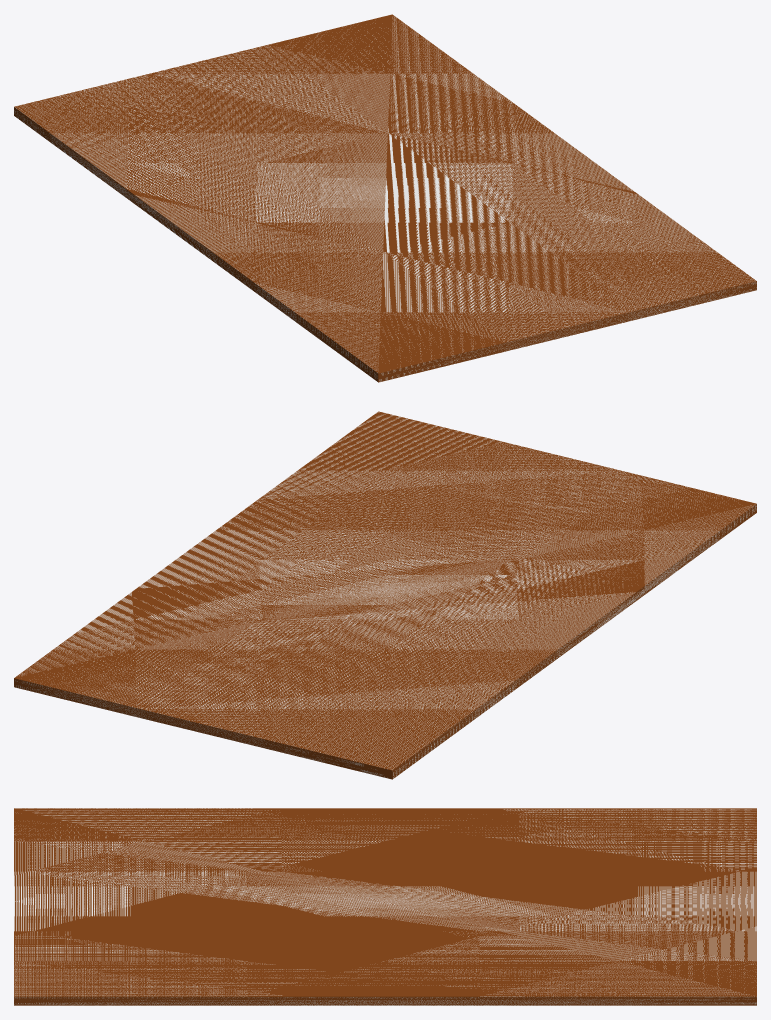
The model's file is original-41.obj.
3 renders of one model, top to bottom at view 1: azimuth 30°, elevation 25°; view 2: azimuth 150°, elevation 25°; view 3: azimuth 270°, elevation 25°, orthographic.
Visible parts, largest first — view 1: D_-_Tray_Base1/D_-_Tray_Base/mesh13/mesh13-geometry#mesh13-geome; view 2: D_-_Tray_Base1/D_-_Tray_Base/mesh13/mesh13-geometry#mesh13-geome; view 3: D_-_Tray_Base1/D_-_Tray_Base/mesh13/mesh13-geometry#mesh13-geome.
Boxes of the visible parts, box(x1,y1,x2,y2) form: D_-_Tray_Base1/D_-_Tray_Base/mesh13/mesh13-geometry#mesh13-geome: box(14, 14, 756, 382); D_-_Tray_Base1/D_-_Tray_Base/mesh13/mesh13-geometry#mesh13-geome: box(14, 411, 756, 779); D_-_Tray_Base1/D_-_Tray_Base/mesh13/mesh13-geometry#mesh13-geome: box(14, 808, 756, 1005).
Size of the model in its own units: 0.631 by 0.0144 by 1.05.
